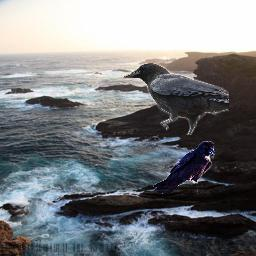Crow: (123, 63, 229, 135), (153, 141, 215, 194)
